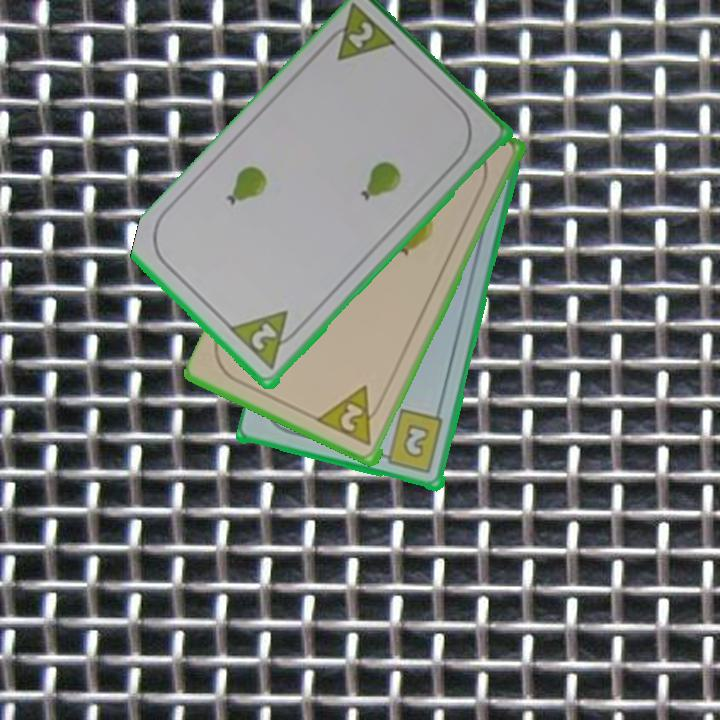2b: (375, 407, 447, 477)
2p: (317, 2, 402, 65), (227, 307, 306, 374), (315, 382, 386, 449)
